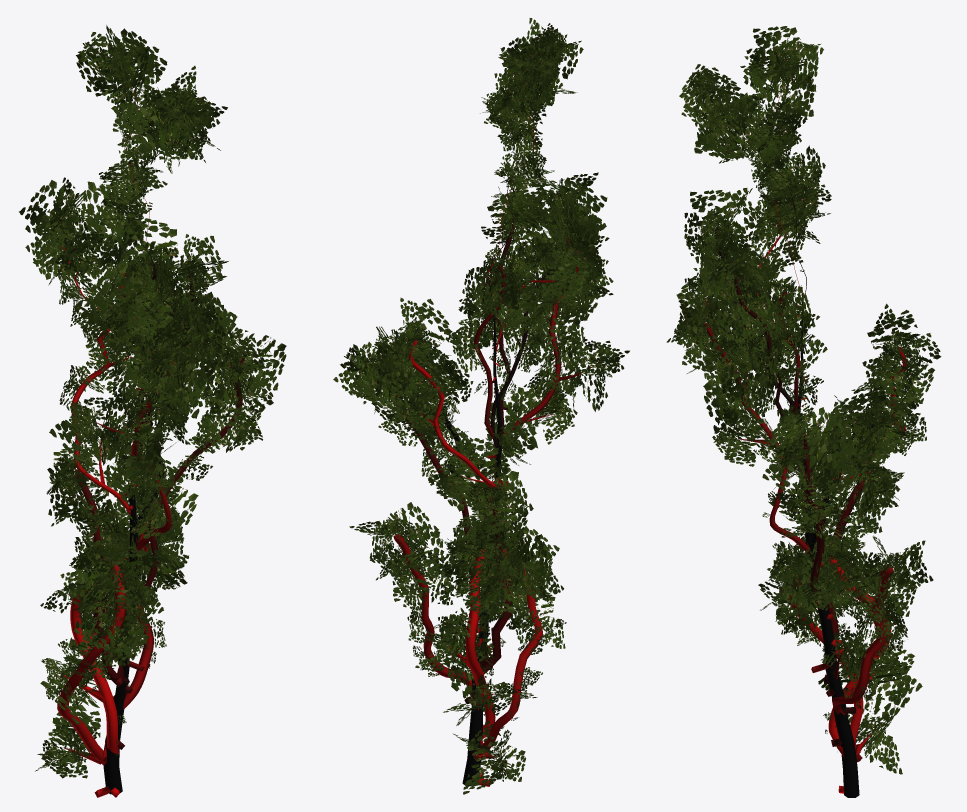
The model's file is Tree_14.fbx.
3 renders of one model, left to right at view 1: azimuth 30°, elevation 25°; view 2: azimuth 150°, elevation 25°; view 3: azimuth 270°, elevation 25°, orthographic. The views are drawn at different scales.
Visible parts, largest first — view 1: Tree_6; view 2: Tree_6; view 3: Tree_6.
Part boxes in pixels (x1,y1,x2,y2): Tree_6: (19,25,286,797); Tree_6: (333,18,629,794); Tree_6: (666,26,941,797).
Size of the model in its own units: 1047 by 3012 by 1037.
